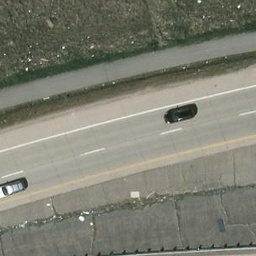car: (164, 99, 200, 126), (1, 179, 26, 203)
